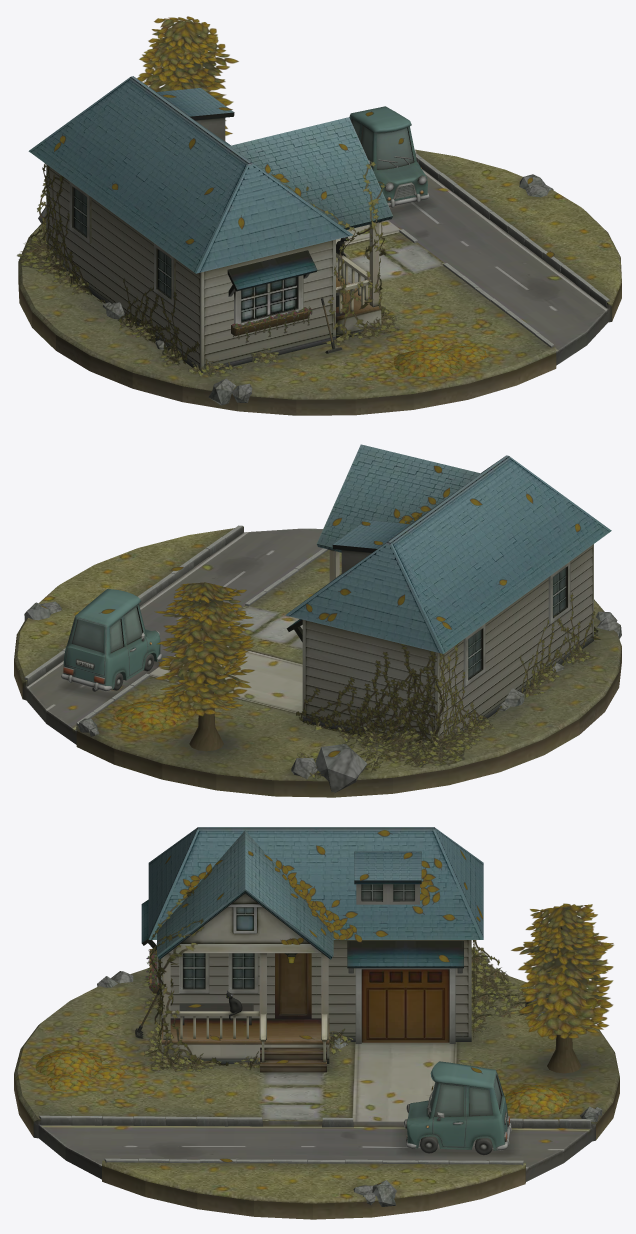
The model's file is house_autumn.glb.
3 views of the same model, one above another, from view 1: azimuth 30°, elevation 25°; view 2: azimuth 150°, elevation 25°; view 3: azimuth 270°, elevation 25° (orthographic).
Parts seen in each view (by area): view 1: polySurface637, House_base, polySurface197, polySurface355, initialShadingGrouppolySurface116_polySurface3, House_window_01, polySurface226, polySurface243, House_smallroof_02, House_veranda, House_windows_06, House_windows_05 (+4 smaller); view 2: polySurface637, House_base, polySurface355, polySurface197, initialShadingGrouppolySurface116_polySurface3, polySurface276, polySurface250, House_smallroof_02, House_windows_05, House_windows_06, polySurface470, polySurface476 (+6 smaller); view 3: polySurface637, House_base, polySurface355, polySurface197, Garage_door, initialShadingGrouppolySurface116_polySurface3, House_veranda, polySurface179, House_roof_part_02, House_door, House_smallroof_02, House_stairs (+13 smaller).
Part boxes in pixels (<box>): polySurface637: <box>18,149,621,415</box>; House_base: <box>28,76,353,372</box>; polySurface197: <box>229,117,392,229</box>; polySurface355: <box>137,16,238,135</box>; initialShadingGrouppolySurface116_polySurface3: <box>349,106,429,207</box>; House_window_01: <box>234,275,303,324</box>; polySurface226: <box>227,250,317,296</box>; polySurface243: <box>393,349,461,376</box>; House_smallroof_02: <box>156,88,234,120</box>; House_veranda: <box>336,273,381,338</box>; House_windows_06: <box>69,181,91,244</box>; House_windows_05: <box>154,243,175,305</box>; polySurface637: <box>14,526,621,797</box>; House_base: <box>285,455,611,747</box>; polySurface355: <box>154,582,254,751</box>; polySurface197: <box>316,444,480,552</box>; initialShadingGrouppolySurface116_polySurface3: <box>61,589,161,691</box>; polySurface276: <box>315,744,367,792</box>; polySurface250: <box>115,701,185,731</box>; House_smallroof_02: <box>332,520,410,552</box>; House_windows_05: <box>548,561,570,624</box>; House_windows_06: <box>463,623,485,686</box>; polySurface470: <box>418,730,466,766</box>; polySurface476: <box>326,652,416,741</box>; polySurface637: <box>14,968,619,1219</box>; House_base: <box>148,827,483,1041</box>; polySurface355: <box>511,903,613,1073</box>; polySurface197: <box>157,830,333,959</box>; Garage_door: <box>355,968,455,1043</box>; initialShadingGrouppolySurface116_polySurface3: <box>404,1061,511,1155</box>; House_veranda: <box>161,1018,329,1063</box>; polySurface179: <box>347,941,463,973</box>; House_roof_part_02: <box>180,893,309,943</box>; House_door: <box>275,953,311,1018</box>; House_smallroof_02: <box>354,851,421,884</box>; House_stairs: <box>260,1047,326,1072</box>.
Bounding box in the file's own units: 50.27 × 18.7 × 50.43.
6 materials, 5 textured.
